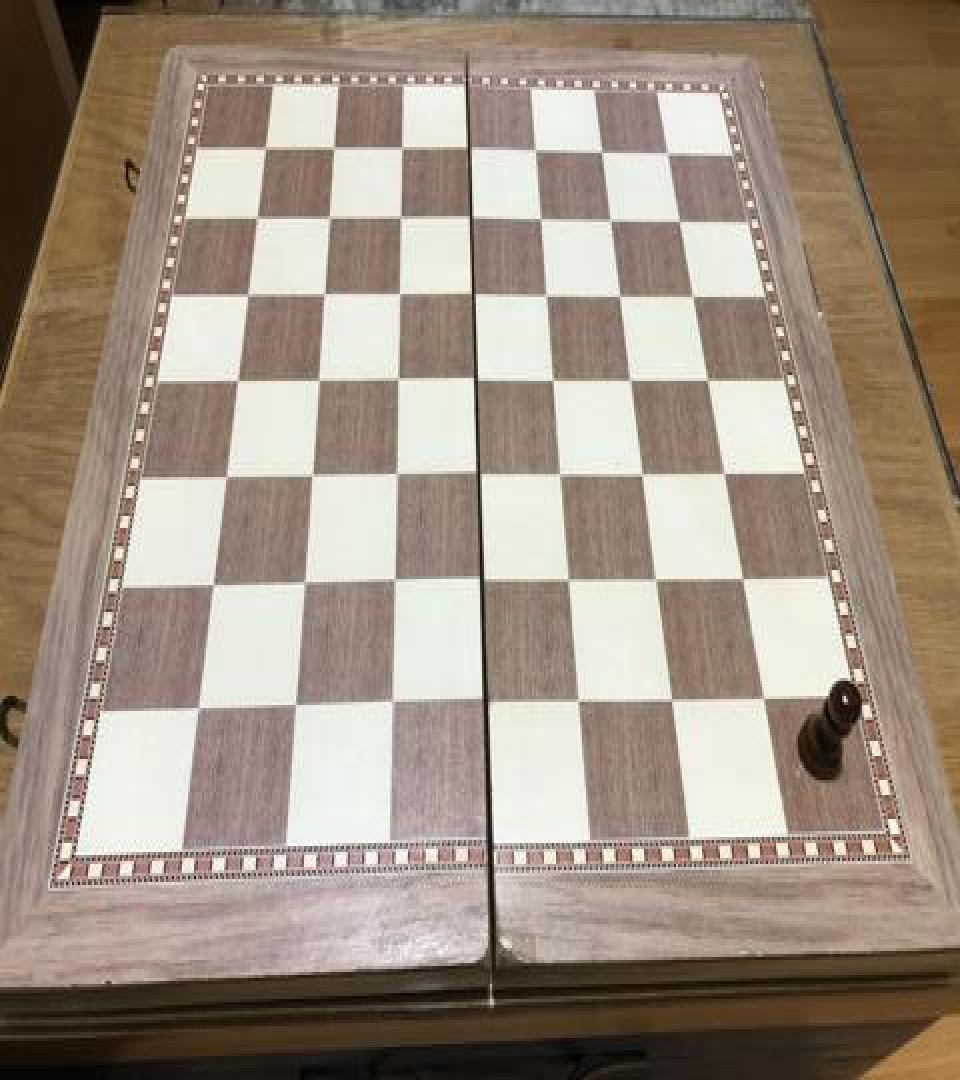xcorner: (713, 454, 739, 494), (645, 562, 671, 602), (289, 568, 315, 608), (753, 682, 779, 722), (472, 688, 498, 728), (183, 694, 209, 734), (656, 131, 682, 170), (590, 131, 616, 170), (523, 131, 549, 170), (456, 131, 482, 170), (388, 129, 414, 168), (320, 129, 346, 168), (251, 129, 277, 168), (682, 276, 708, 315), (608, 276, 634, 315), (534, 276, 560, 315), (460, 276, 486, 315), (385, 276, 411, 315), (309, 276, 335, 315), (696, 360, 722, 399), (383, 363, 409, 402), (303, 363, 329, 402), (223, 363, 249, 402), (631, 456, 657, 495), (381, 459, 407, 498), (296, 459, 322, 498), (211, 460, 237, 499), (732, 561, 758, 600), (557, 564, 583, 603), (468, 565, 494, 604), (379, 567, 405, 606), (198, 570, 224, 609), (660, 684, 686, 723), (566, 686, 592, 725), (376, 690, 402, 729), (280, 693, 306, 732), (668, 200, 694, 238), (599, 200, 625, 238), (528, 200, 554, 238), (458, 200, 484, 238), (386, 200, 412, 238), (315, 200, 341, 238), (242, 200, 268, 238), (233, 278, 259, 316), (619, 362, 645, 400), (541, 362, 567, 400), (462, 362, 488, 400), (548, 458, 574, 496), (465, 458, 491, 496)
